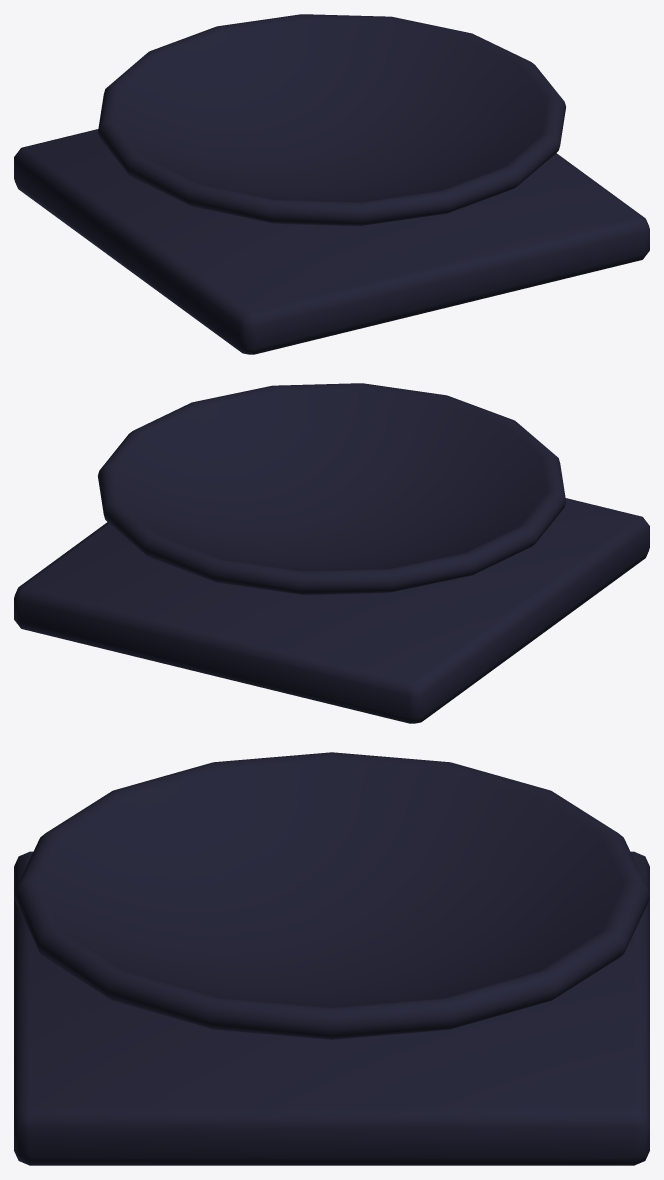
File: Constructing_Dryer.fbx
The picture shows the model from 3 angles, top to bottom: view 1: azimuth 30°, elevation 25°; view 2: azimuth 150°, elevation 25°; view 3: azimuth 270°, elevation 25°; orthographic projection. The views are drawn at different scales.
Parts seen in each view (by area): view 1: Stand_Base_Small001; view 2: Stand_Base_Small001; view 3: Stand_Base_Small001.
Boxes of the visible parts, x1,y1,x2,y2 form: Stand_Base_Small001: [14, 14, 649, 354]; Stand_Base_Small001: [14, 383, 649, 723]; Stand_Base_Small001: [14, 752, 649, 1165].
Bounding box in the file's own units: 100 × 27.08 × 100.
